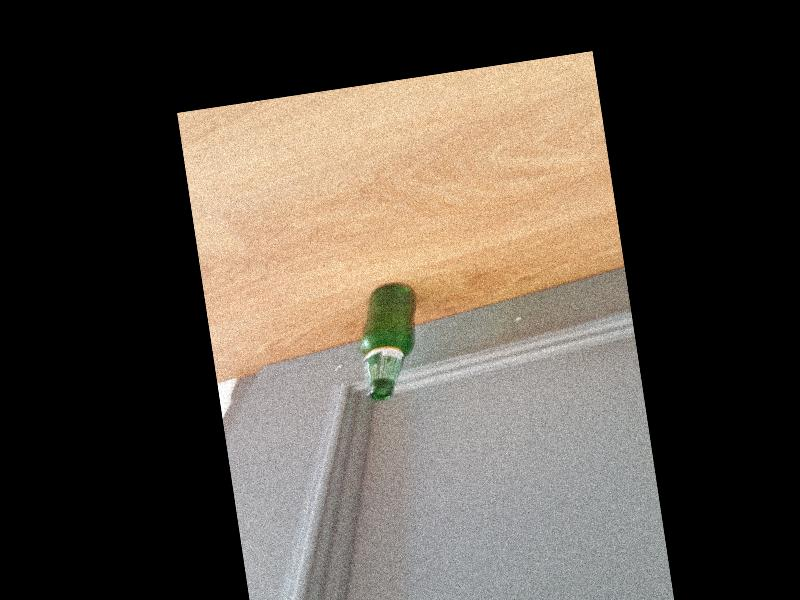Beer: (353, 280, 428, 400)
